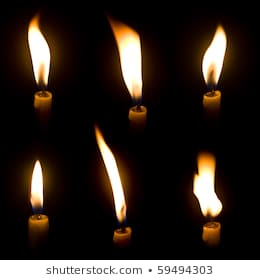Fire: (94, 124, 129, 223), (108, 17, 146, 103), (190, 149, 225, 215), (23, 14, 54, 87), (200, 21, 227, 86), (29, 157, 45, 211)
